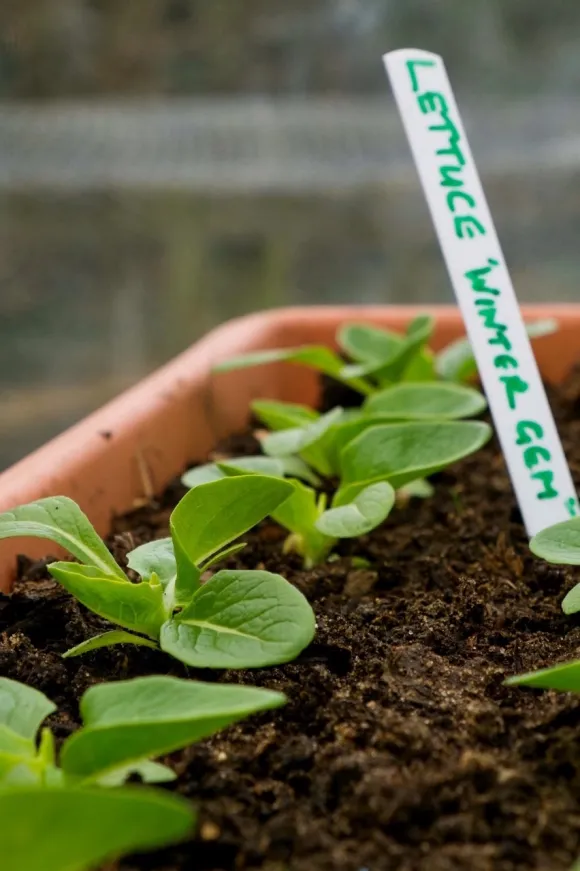lettuce: (14, 488, 319, 665)
